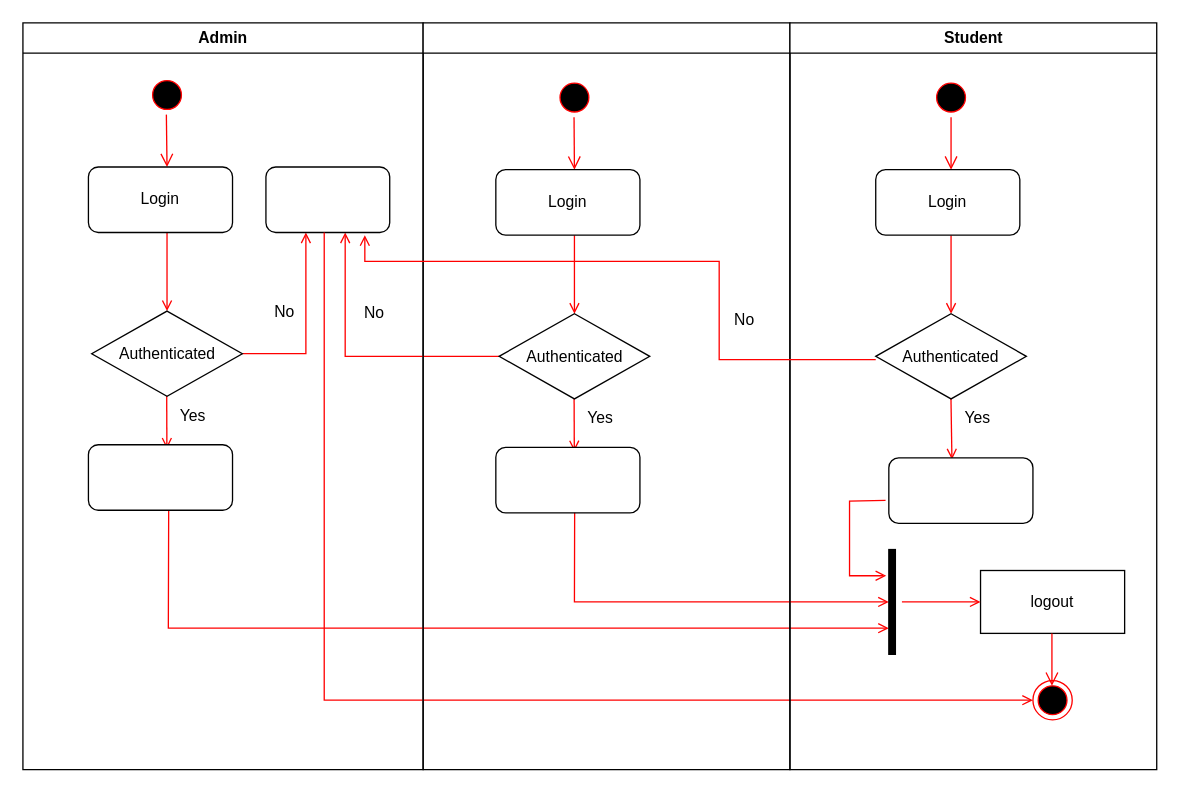
The diagram is 1180 pixels wide and 793 high, and some of its shapes have lost their labels. Here are the shapes that lost their labels. From the top down, the box of each, then its label:
(265, 166, 390, 233): Show error
(422, 22, 790, 770): Professor
(87, 443, 233, 510): create/modify Timetable
(495, 446, 640, 513): Update Timetable
(888, 457, 1033, 523): View Timetable
